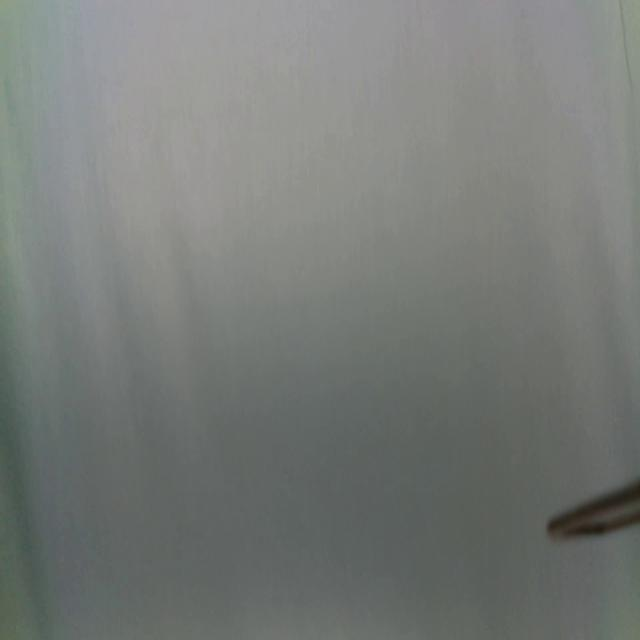crease: (617, 0, 634, 91)
